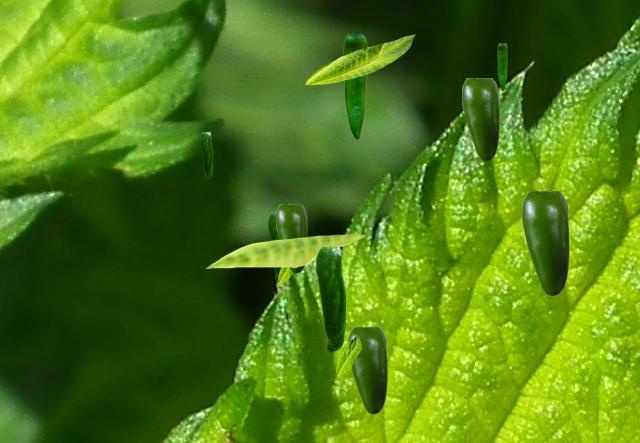green_chili: (522, 191, 568, 295), (348, 327, 386, 413), (462, 78, 498, 160), (316, 247, 344, 351), (343, 34, 366, 138), (276, 204, 306, 272), (268, 212, 279, 280), (200, 132, 211, 178), (497, 43, 506, 89)
